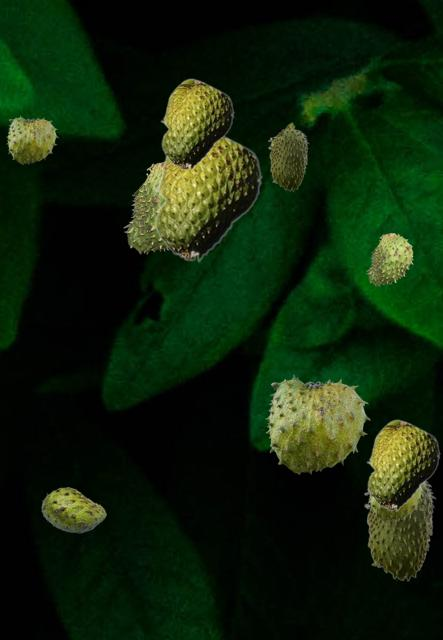guyabano: (153, 136, 261, 262), (265, 374, 369, 473), (364, 481, 435, 580), (160, 78, 233, 170), (366, 419, 439, 511), (123, 161, 169, 253), (41, 487, 105, 532), (268, 122, 308, 190), (368, 472, 423, 520), (6, 115, 57, 163), (366, 233, 412, 285)
